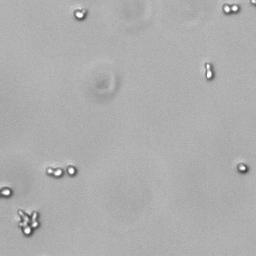budding: (45, 166, 63, 178), (222, 2, 240, 13), (204, 62, 214, 81), (72, 8, 87, 20)
cluster: (15, 208, 41, 236)
individual: (66, 165, 76, 176), (1, 187, 12, 197), (237, 162, 248, 172)
